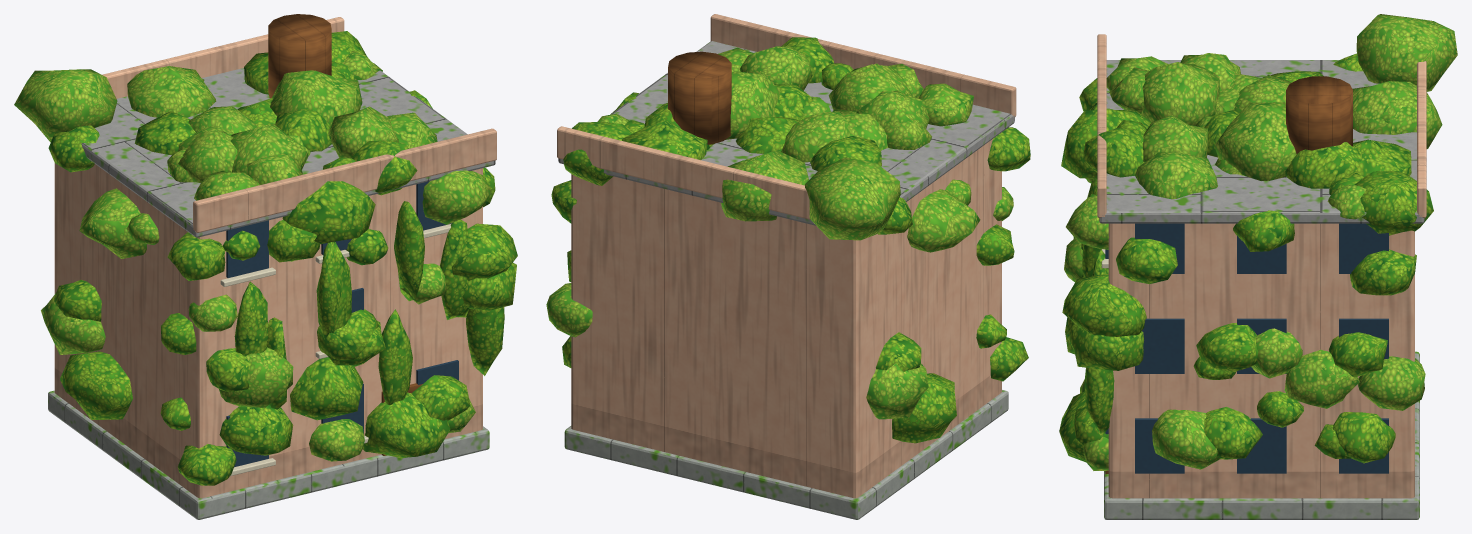
The model's file is building-ivy-c.glb.
3 views of the same model, side by side, from view 1: azimuth 30°, elevation 25°; view 2: azimuth 150°, elevation 25°; view 3: azimuth 270°, elevation 25° (orthographic). The views are drawn at different scales.
Visible parts, largest first — view 1: building-ivy-c; view 2: building-ivy-c; view 3: building-ivy-c.
Part boxes in pixels (box(x1,y1,x2,y2)): building-ivy-c: box(14, 14, 517, 519); building-ivy-c: box(546, 14, 1030, 519); building-ivy-c: box(1059, 14, 1457, 519).
Bounding box in the file's own units: 4.61 × 4.45 × 4.16.
Materials: 8 (8 with a texture image).
